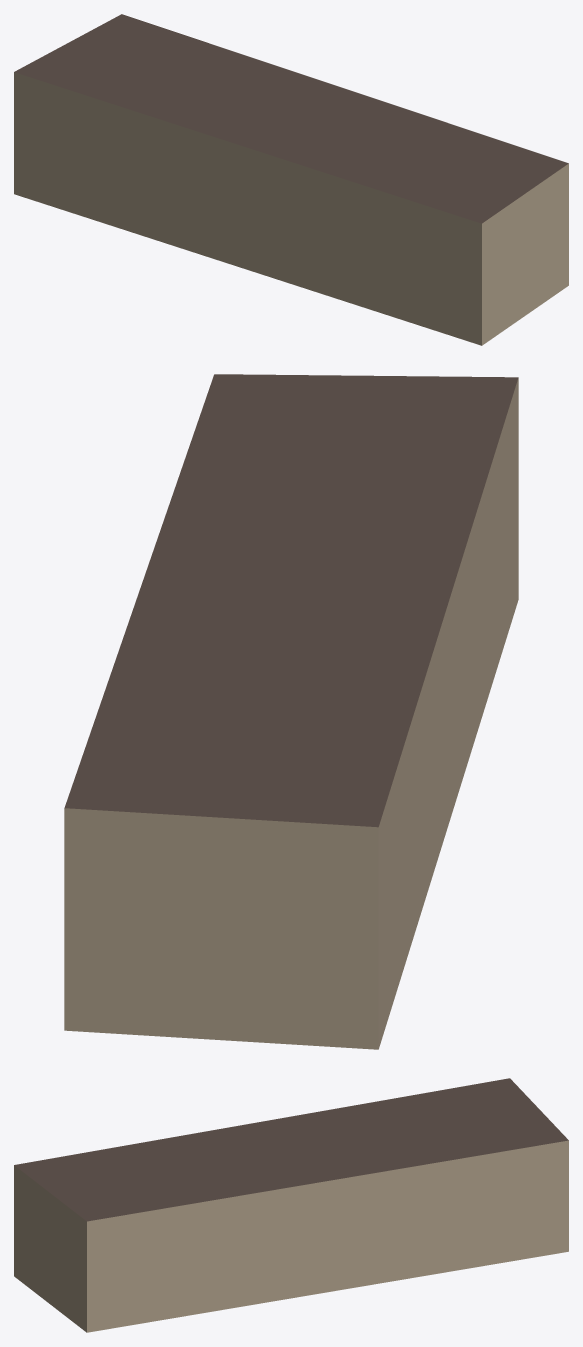
The picture shows the model from 3 angles, top to bottom: view 1: azimuth 30°, elevation 25°; view 2: azimuth 150°, elevation 25°; view 3: azimuth 270°, elevation 25°; orthographic projection. The views are drawn at different scales.
Parts seen in each view (by area): view 1: HP-w305412556; view 2: HP-w305412556; view 3: HP-w305412556.
Boxes of the visible parts, x1,y1,x2,y2 form: HP-w305412556: [14, 14, 568, 345]; HP-w305412556: [64, 374, 518, 1049]; HP-w305412556: [14, 1078, 568, 1332].
Size of the model in its own units: 24.87 by 9 by 40.69.
